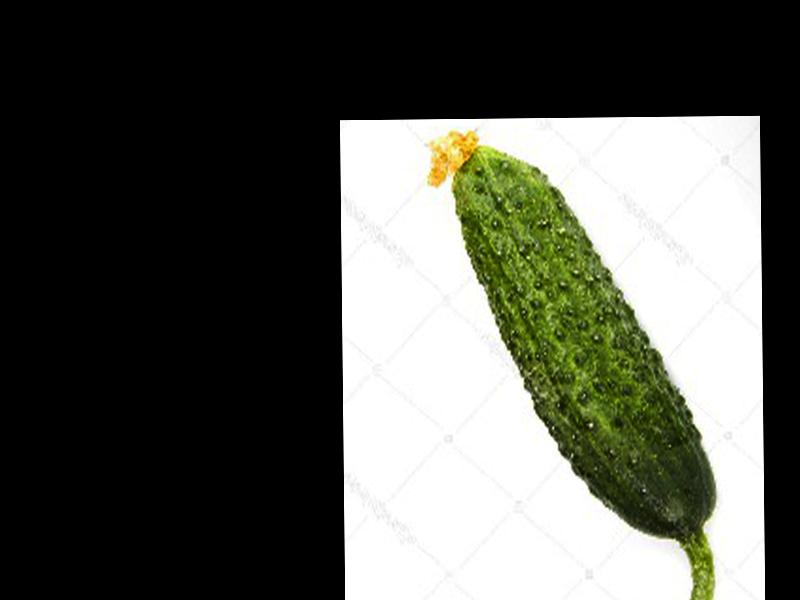Cucumber: (423, 125, 718, 600)
